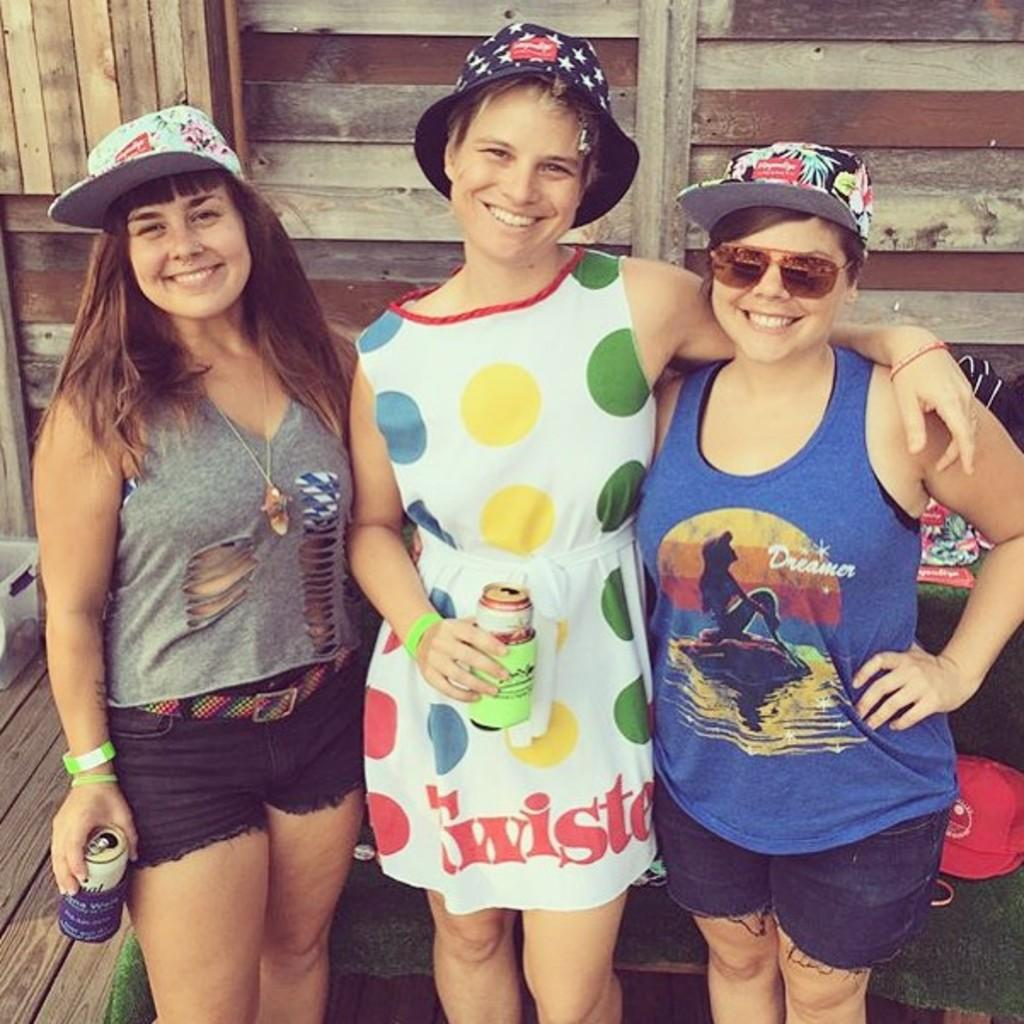Hat: (406, 26, 646, 224), (50, 106, 248, 230), (680, 142, 874, 258)
